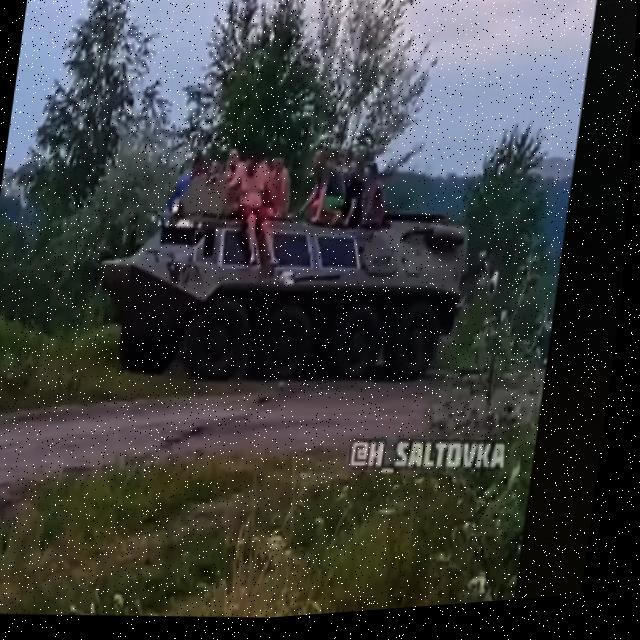MIL_APC: (59, 156, 506, 421)
